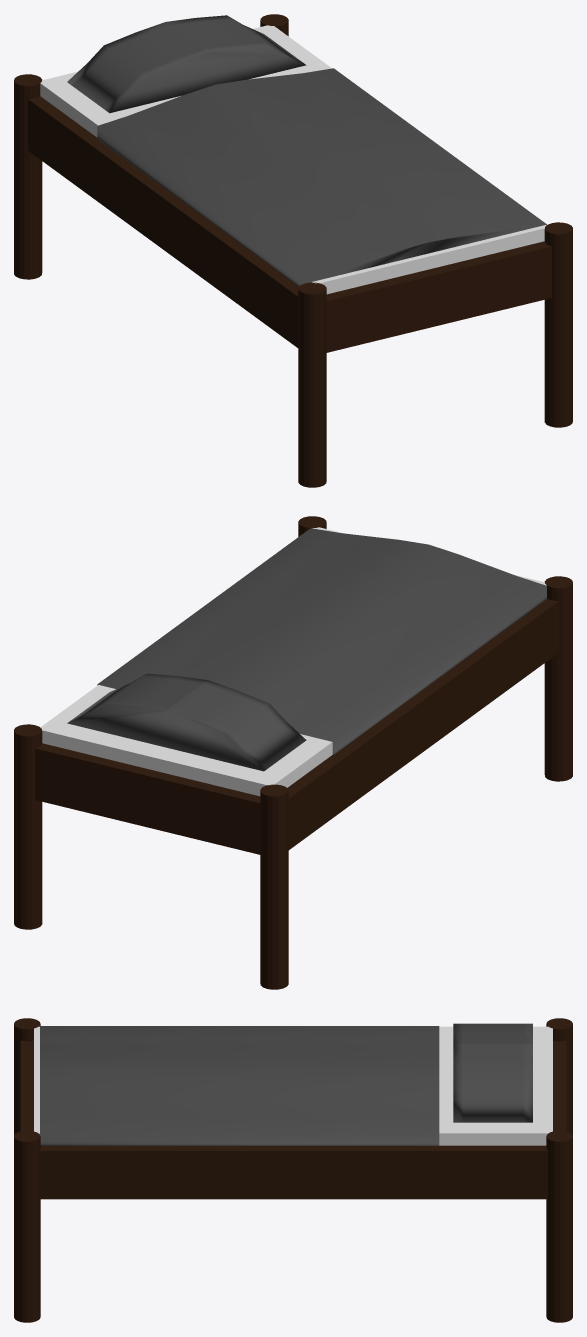
The model's file is Bed.glb.
3 renders of one model, top to bottom at view 1: azimuth 30°, elevation 25°; view 2: azimuth 150°, elevation 25°; view 3: azimuth 270°, elevation 25°, orthographic. The views are drawn at different scales.
Parts seen in each view (by area): view 1: Cube, Cube.003, Cube.001, Cube.007, Cube.005, Cylinder, Cylinder.003, Cylinder.002; view 2: Cube, Cube.003, Cube.004, Cube.007, Cube.005, Cylinder.002, Cylinder.001, Cylinder; view 3: Cube, Cube.002, Cube.007, Cube.005, Cylinder.001, Cylinder.003, Cube.001, Cube.004, Cylinder.002, Cylinder.
Boxes of the visible parts, x1,y1,x2,y2 form: Cube: [97, 68, 546, 286]; Cube.003: [28, 96, 298, 347]; Cube.001: [326, 241, 551, 352]; Cube.007: [67, 15, 306, 113]; Cube.005: [40, 25, 546, 294]; Cylinder: [298, 282, 326, 487]; Cylinder.003: [544, 222, 572, 427]; Cylinder.002: [14, 74, 42, 279]; Cube: [97, 528, 546, 754]; Cube.003: [287, 598, 558, 849]; Cube.004: [35, 743, 260, 854]; Cube.007: [67, 673, 306, 771]; Cube.005: [40, 527, 546, 796]; Cylinder.002: [260, 784, 288, 989]; Cylinder.001: [14, 724, 42, 929]; Cylinder: [544, 576, 572, 781]; Cube: [40, 1026, 439, 1145]; Cube.002: [38, 1145, 548, 1199]; Cube.007: [453, 1023, 532, 1122]; Cube.005: [34, 1026, 552, 1145]; Cylinder.001: [546, 1130, 572, 1322]; Cylinder.003: [14, 1130, 40, 1322]; Cube.001: [20, 1040, 33, 1131]; Cube.004: [553, 1040, 566, 1131]; Cylinder.002: [546, 1018, 572, 1135]; Cylinder: [14, 1018, 40, 1135].
Bounding box in the file's own units: 1.1 × 0.9 × 2.1.
